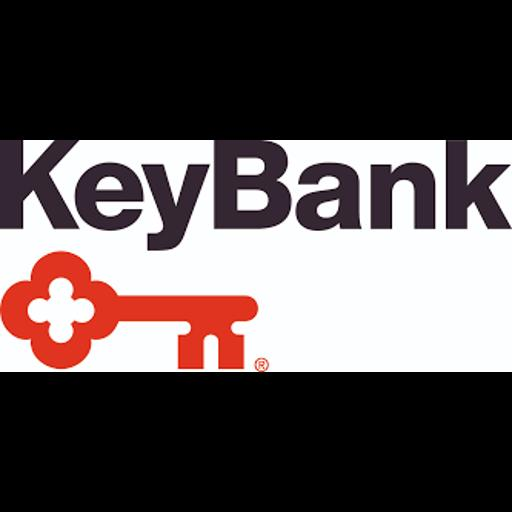Key Bank: (0, 140, 512, 372)
